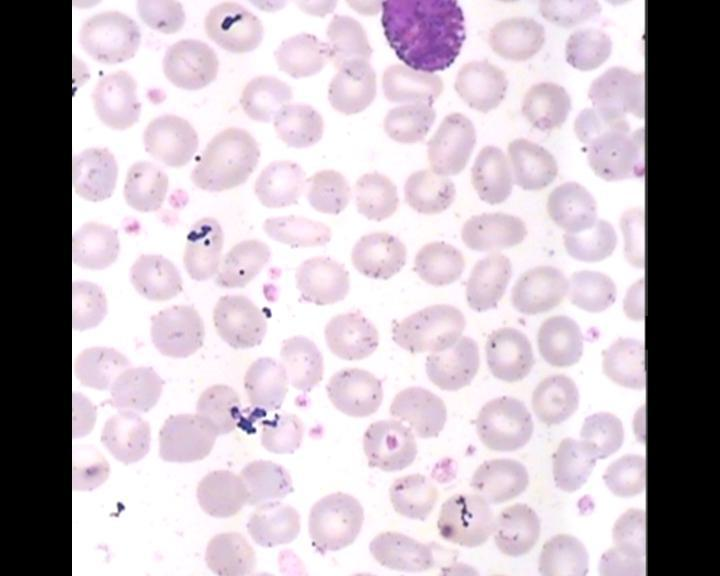baso: (379, 0, 471, 73)
